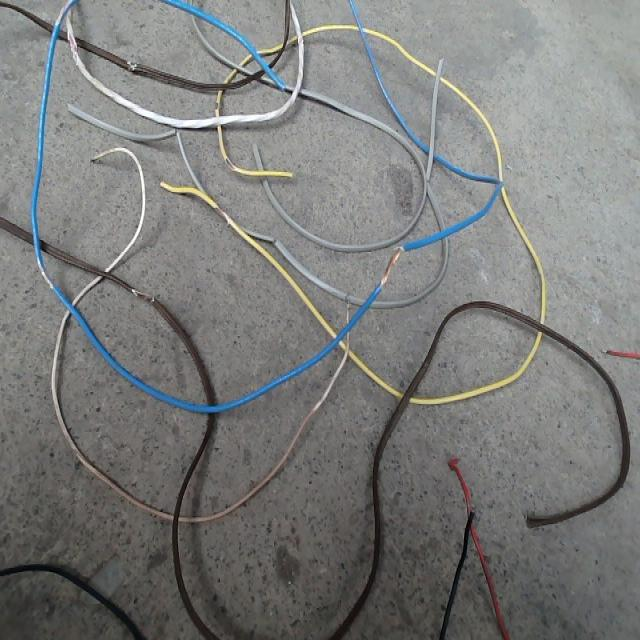-: (379, 244, 403, 287), (37, 259, 55, 289), (66, 29, 80, 63), (211, 204, 229, 223), (130, 288, 154, 301), (223, 154, 235, 170)
